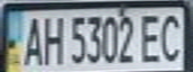0: (103, 11, 121, 65)
2: (118, 11, 139, 65)
3: (84, 12, 103, 65)
5: (63, 12, 87, 65)
A: (18, 12, 45, 68)
C: (154, 10, 187, 63)
E: (136, 10, 166, 64)
H: (39, 12, 66, 65)
